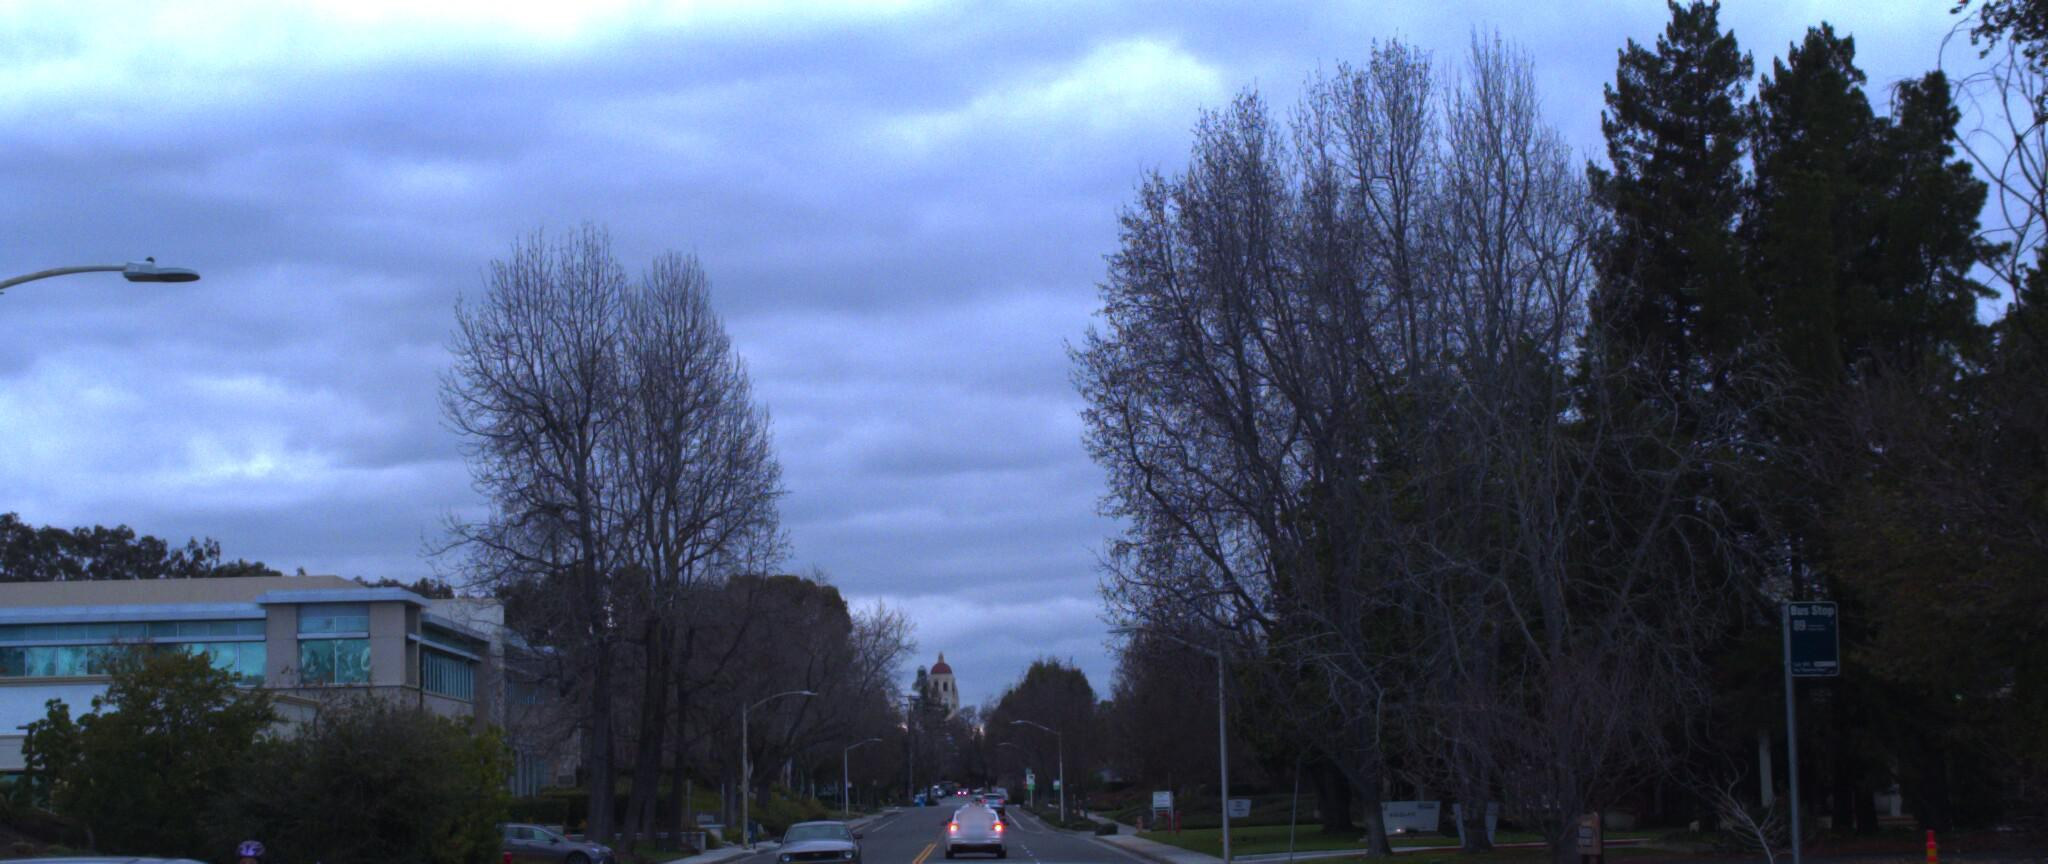bicycle: (146, 824, 293, 864)
car: (0, 820, 355, 864), (764, 797, 865, 864)
